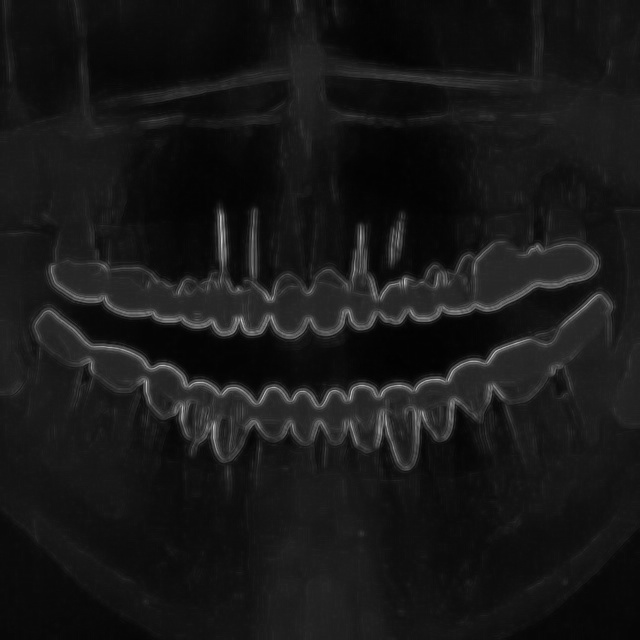Class 1- complete endodontic treatment: (201, 187, 275, 348), (346, 189, 421, 337)
Class 2- incomplete endodontic treatment: (448, 340, 517, 530), (200, 384, 265, 531), (178, 362, 213, 516)
cavity: (284, 372, 430, 550), (32, 287, 140, 501), (510, 142, 614, 304), (45, 162, 123, 321)
